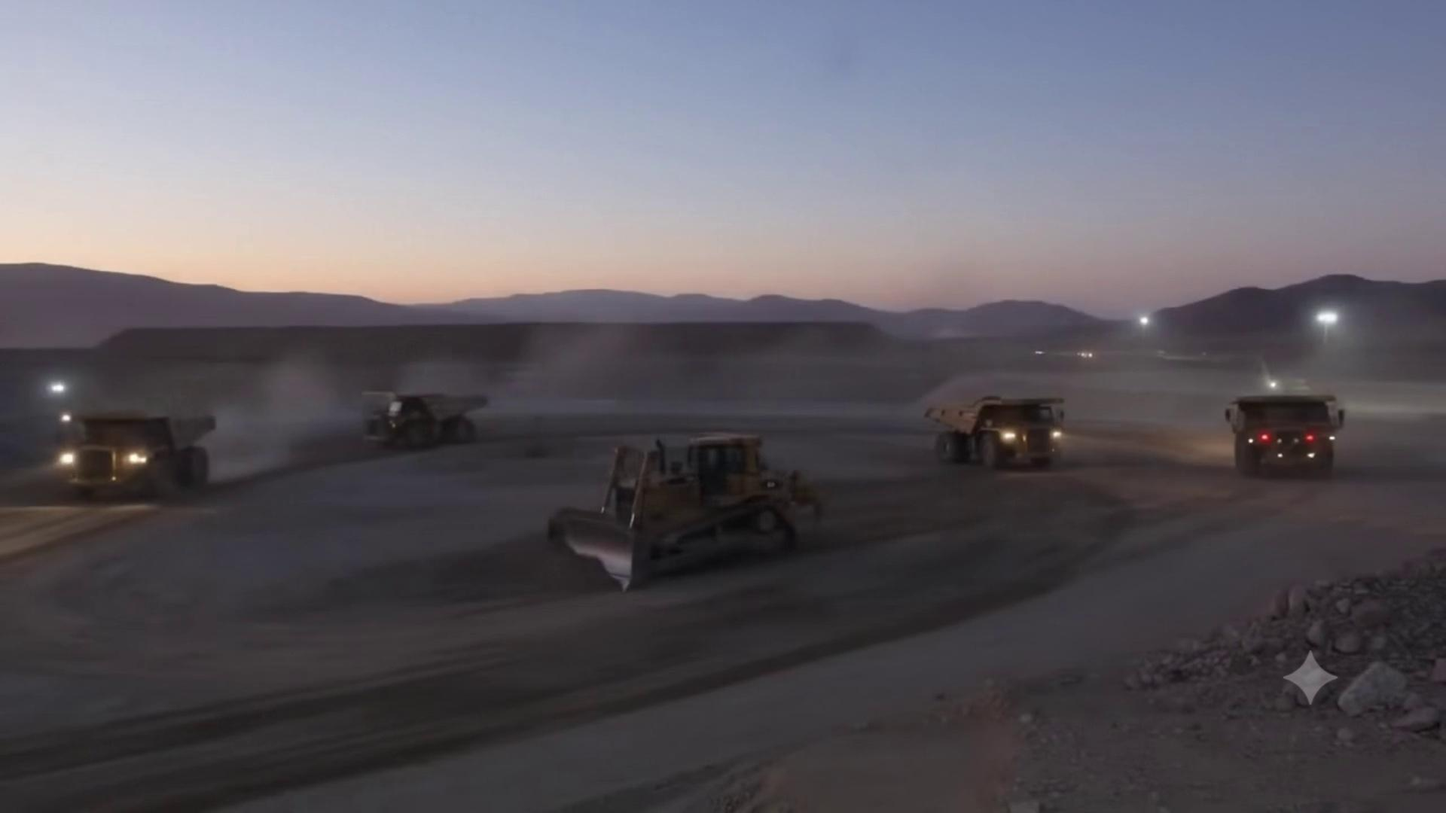CAEX: (52, 411, 217, 500), (1223, 388, 1347, 480), (922, 394, 1067, 470), (361, 390, 491, 448)
bulldozer: (548, 434, 820, 589)
